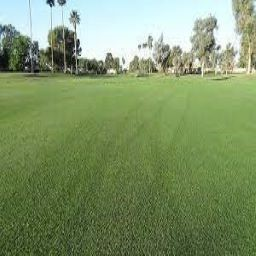grass: (3, 81, 253, 253)
